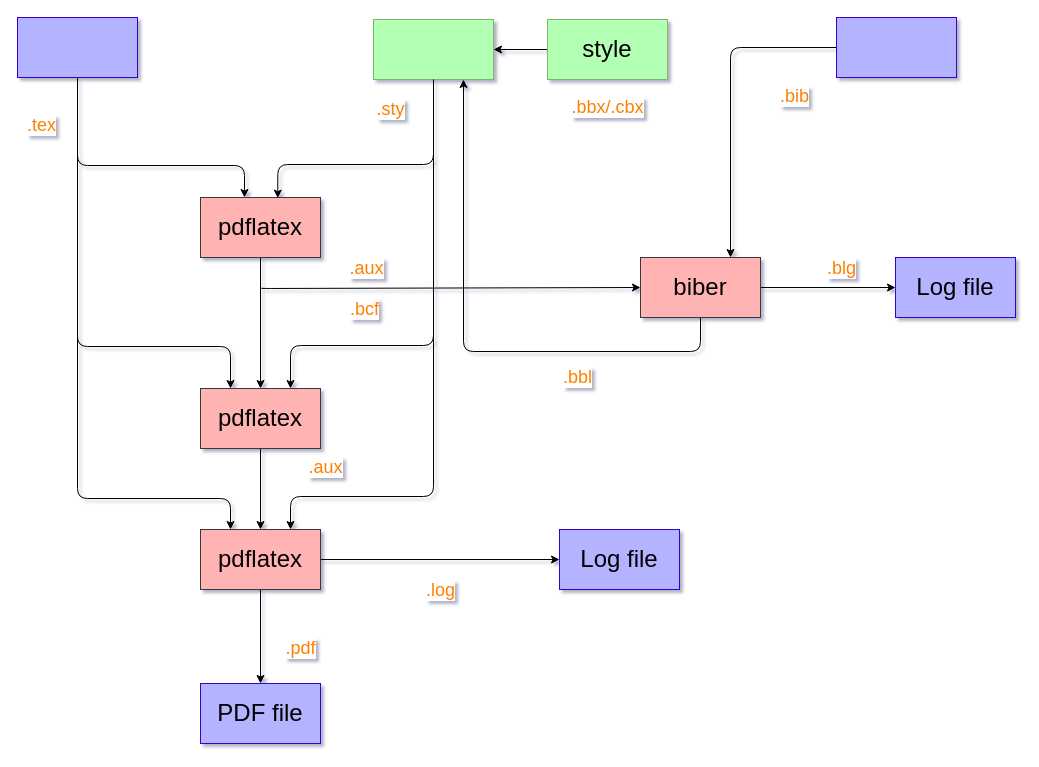
This 1039x767 diagram has some shape labels left out. The shapes that lost their labels are listed below. From the top down, each one's centre as x and y in pixels, then its label:
At pixel 77 47: "source".
At pixel 433 49: "biblatex".
At pixel 896 47: "Bib data".
